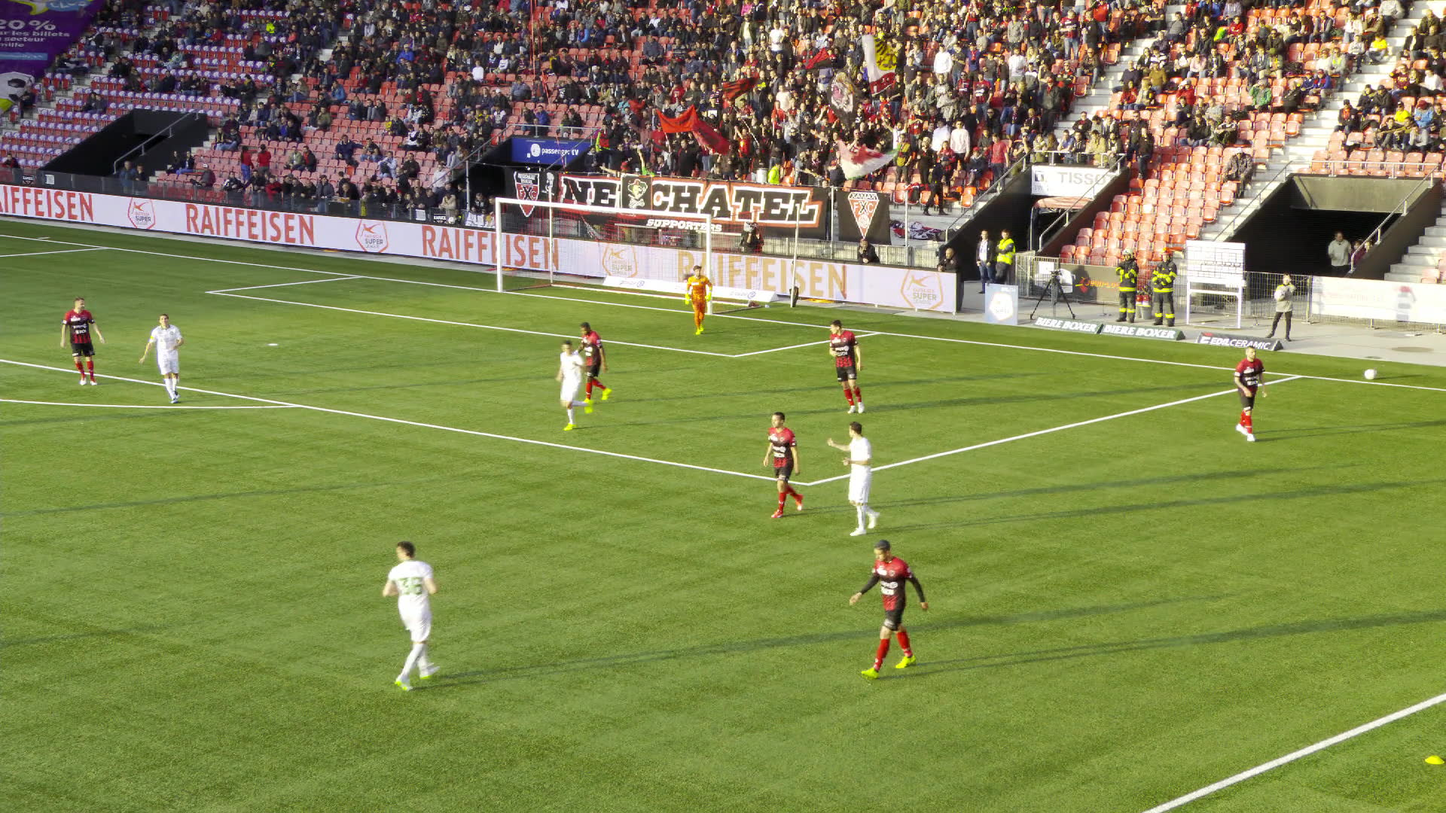ball: (1363, 368, 1376, 379)
player: (859, 536, 923, 676), (387, 539, 442, 686), (831, 420, 883, 534), (554, 336, 600, 430), (765, 410, 801, 516), (59, 297, 102, 385), (145, 312, 184, 403), (828, 320, 863, 415), (575, 322, 614, 404), (1234, 343, 1266, 440), (685, 263, 712, 333)
